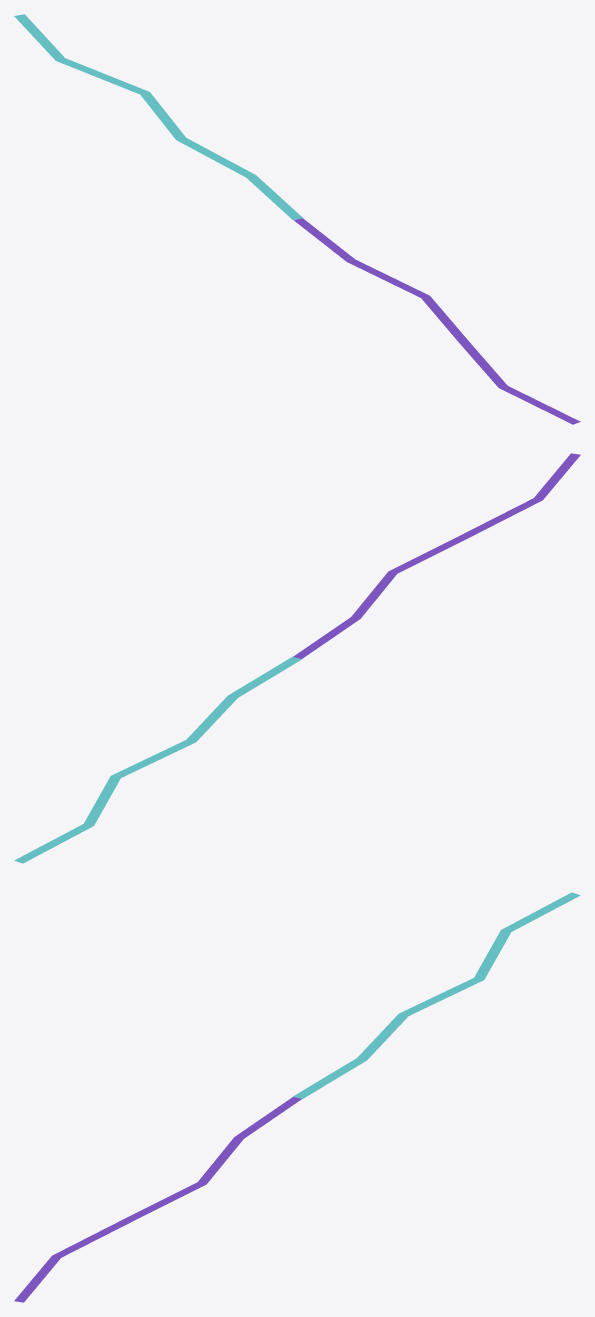
Rendered from caminho_ramal_energia.fbx.
The picture shows the model from 3 angles, top to bottom: view 1: azimuth 30°, elevation 25°; view 2: azimuth 150°, elevation 25°; view 3: azimuth 330°, elevation 25°; orthographic projection.
Parts seen in each view (by area): view 1: caminho_ramal_energia; view 2: caminho_ramal_energia; view 3: caminho_ramal_energia.
Part boxes in pixels (x1,y1,x2,y2): caminho_ramal_energia: (14,14,580,424); caminho_ramal_energia: (14,453,580,863); caminho_ramal_energia: (14,892,580,1302).
Size of the model in its own units: 0.9443 by 9.28e-07 by 21.23.
